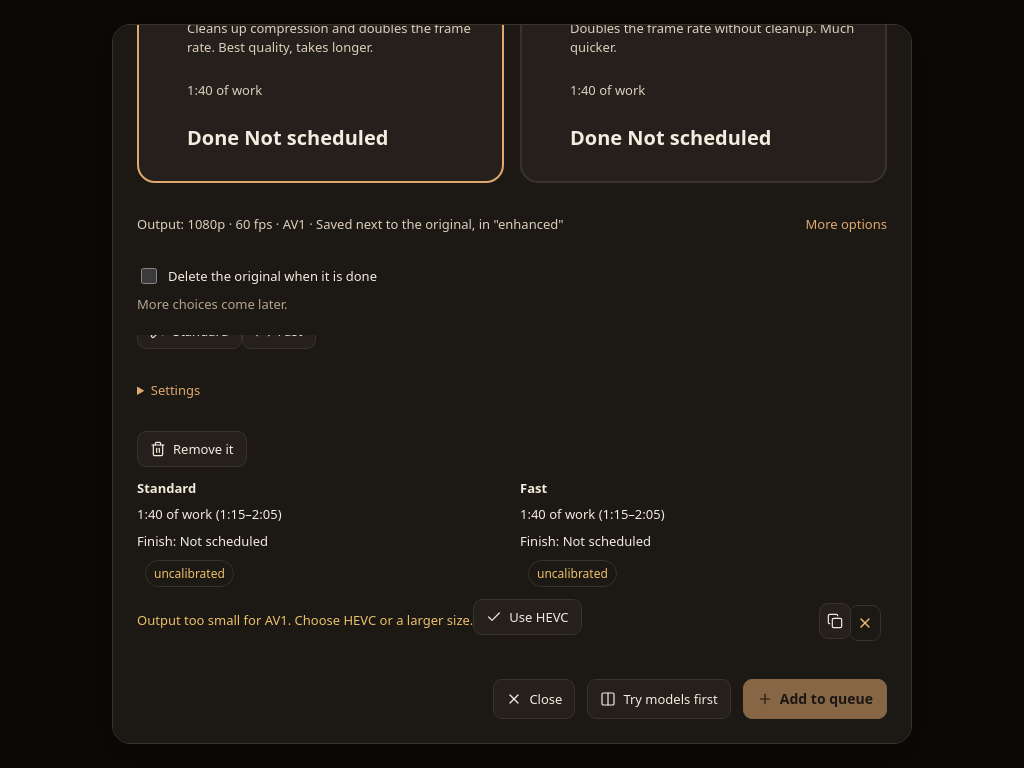
Test: switching AV1 to HEVC clears the size warning without another time estimate
(page scrolled)
Expected: the text "Output too small for AV1. Choose HEVC or a larger size." is shown, [137,610,473,628]
Step 1. Click the button "Use HEVC" → (527, 616), box [473,598,582,634]
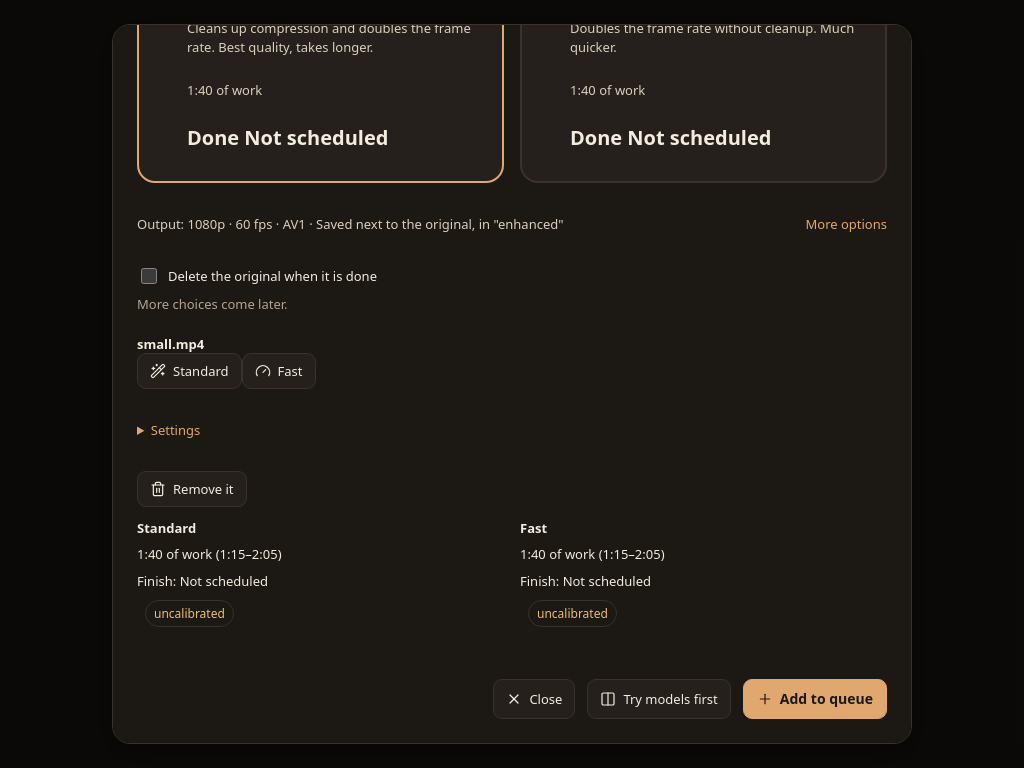
Result: the text "Output too small for AV1. Choose HEVC or a larger size." is gone
Result: the button "Add to queue" is enabled at [743,678,887,718]
